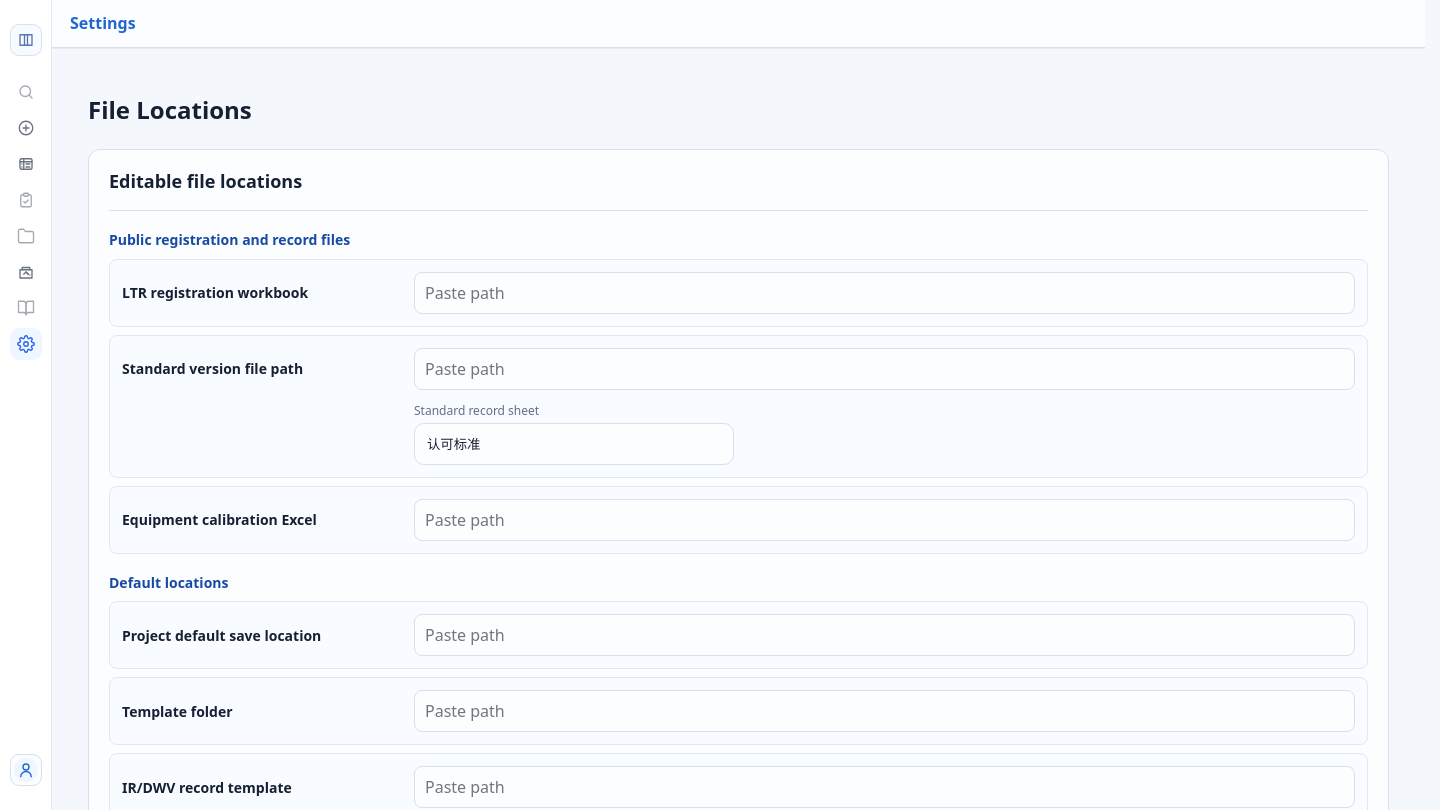
Test: Tools sidebar resumes the temperature workspace › opens the workspace recovery error instead of silently treating storage failure as an empty directory
Click the button named "Tools". click: [26, 272]
box: [10,256,42,288]
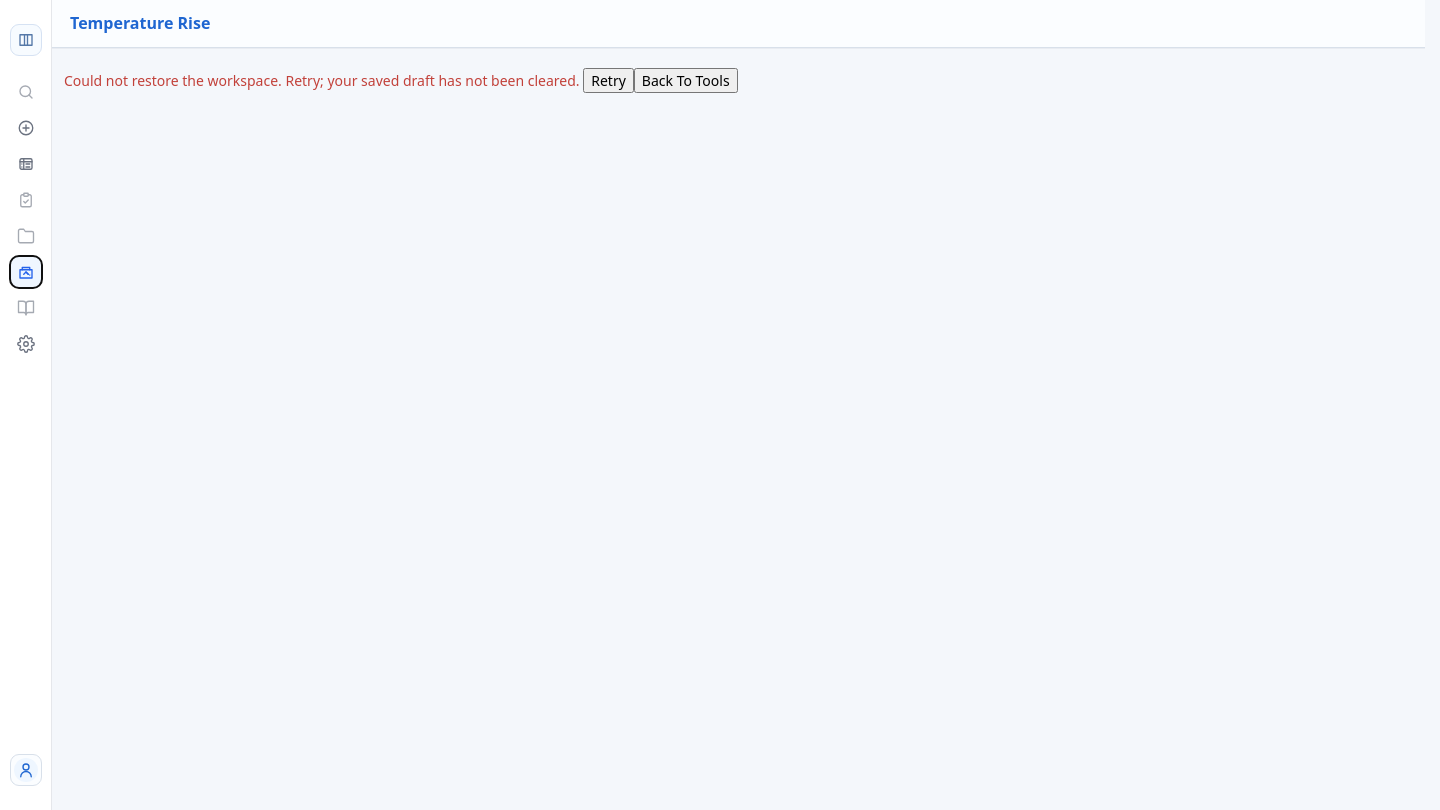
Check: the text "Could not restore the workspace" is shown, box [64,71,580,90]
